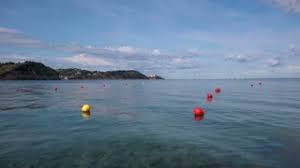buoy: (194, 107, 204, 117), (216, 88, 223, 93), (208, 93, 212, 99)
